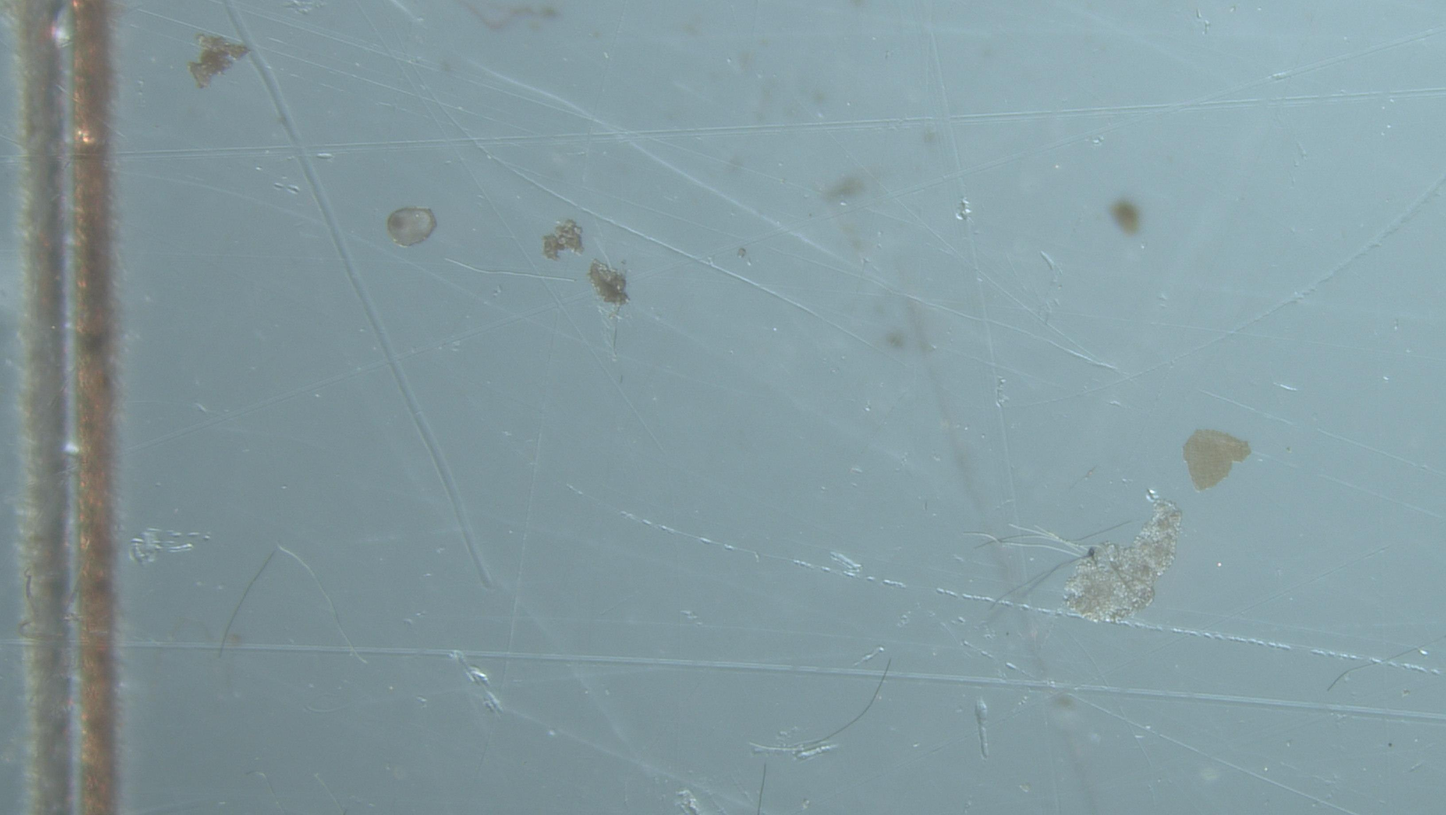live: (387, 207, 436, 247)
